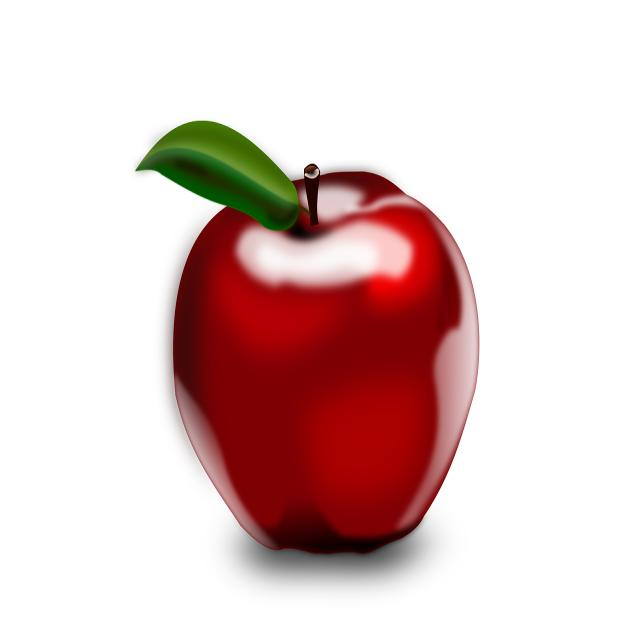manzana: (112, 91, 503, 562)
